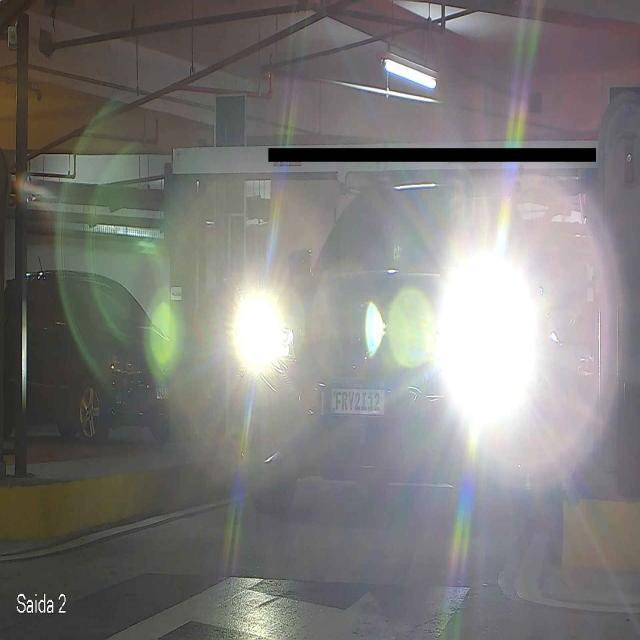mercosul_plate: (326, 381, 388, 419)
